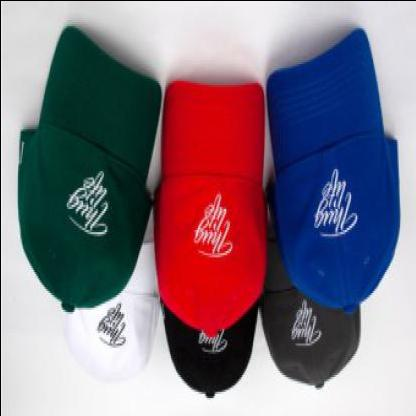cap: (262, 23, 408, 319)
